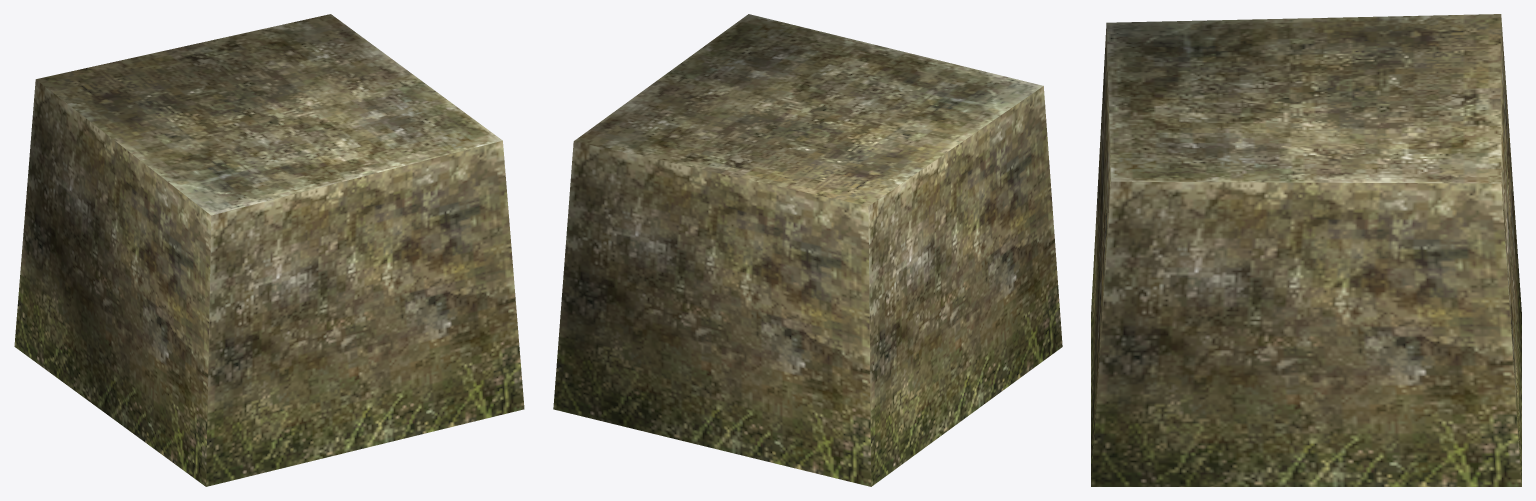
3 views of the same model, side by side, from view 1: azimuth 30°, elevation 25°; view 2: azimuth 150°, elevation 25°; view 3: azimuth 270°, elevation 25° (orthographic). The views are drawn at different scales.
Visible parts, largest first — view 1: OM_20_mi_f06obj04E; view 2: OM_20_mi_f06obj04E; view 3: OM_20_mi_f06obj04E.
Boxes of the visible parts, x1,y1,x2,y2 form: OM_20_mi_f06obj04E: (14,14,524,486); OM_20_mi_f06obj04E: (553,14,1062,486); OM_20_mi_f06obj04E: (1091,14,1521,486).
Size of the model in its own units: 2.65 by 2.16 by 2.76.
1 material, 1 textured.
